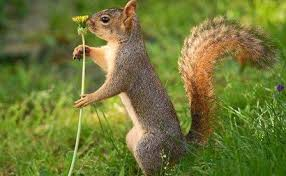Ardilla: (70, 6, 281, 170)
